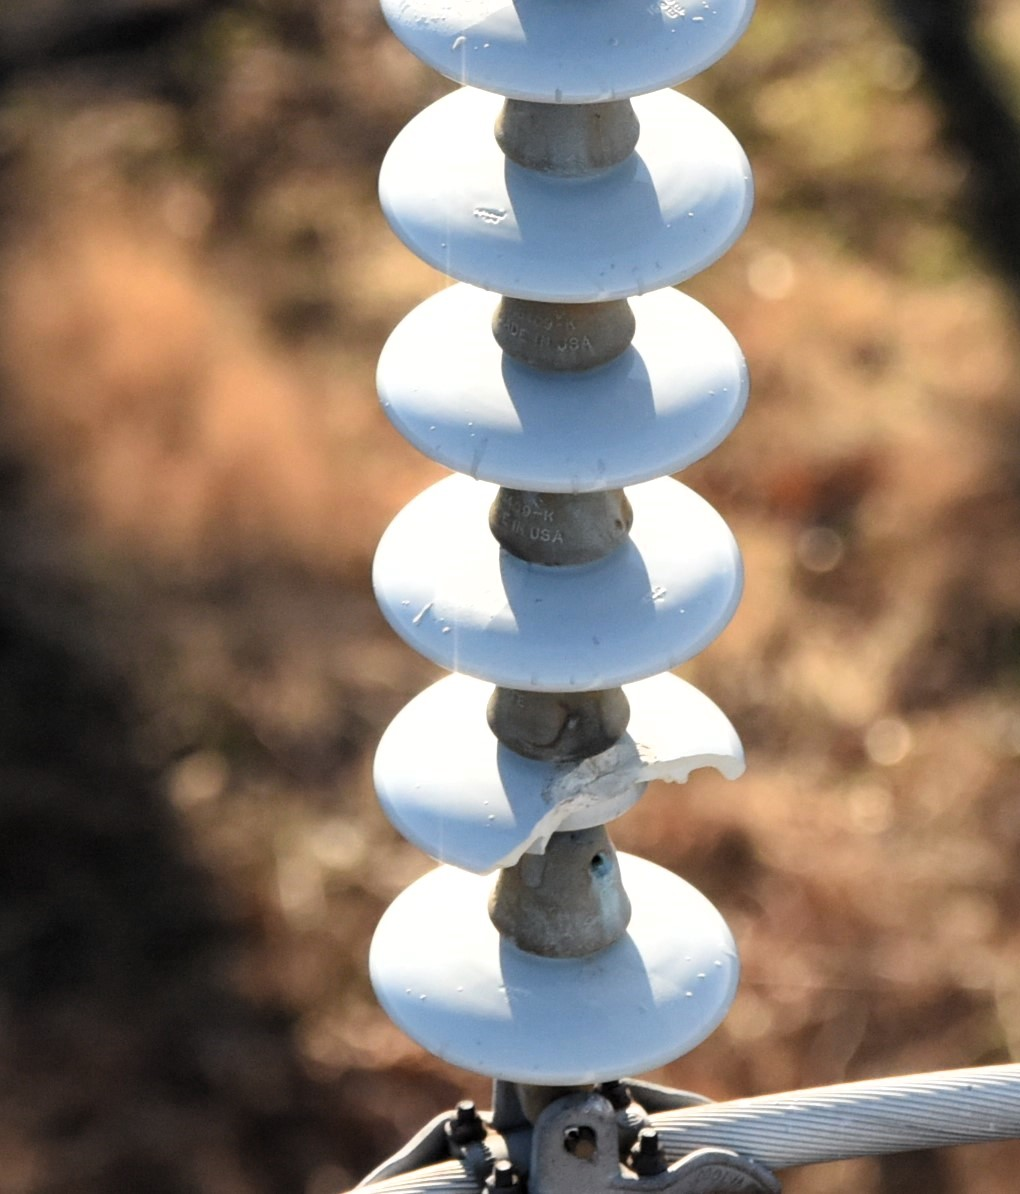insulator breakage: (369, 683, 764, 884)
